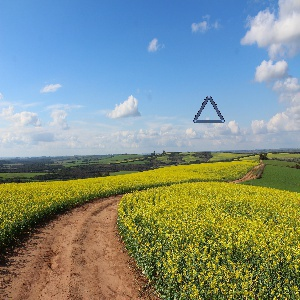triangle: (191, 94, 227, 124)
